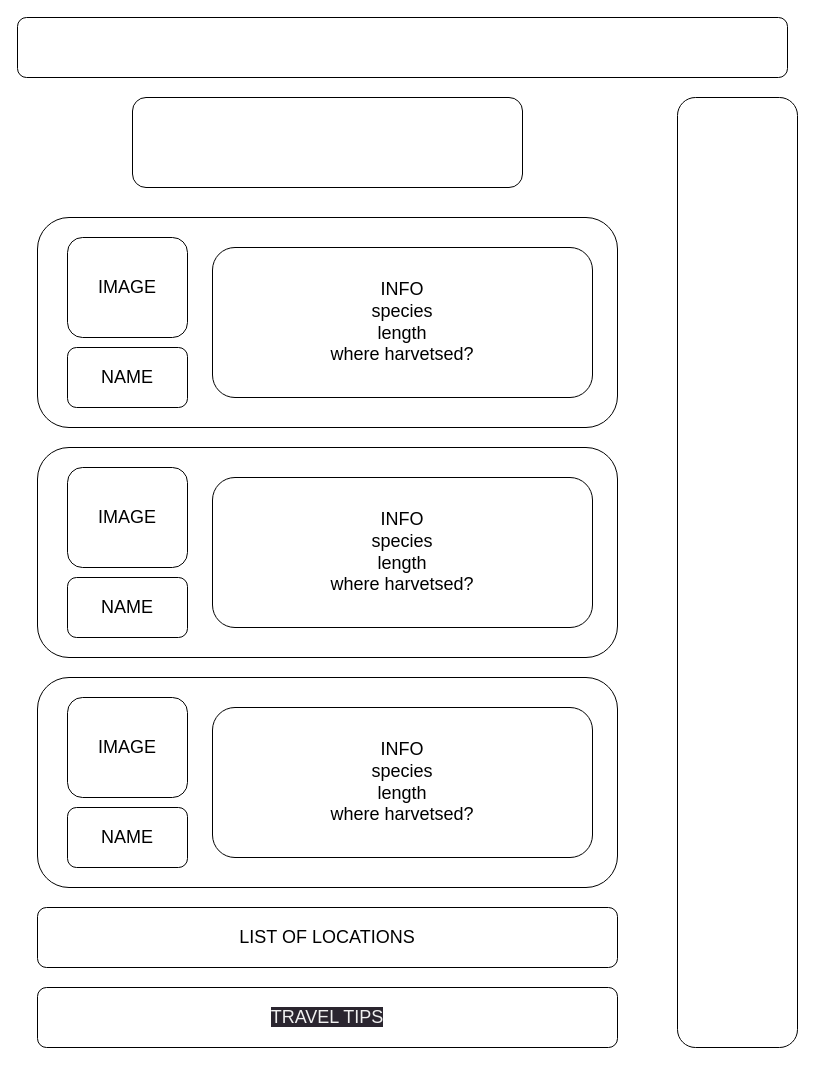
This 815x1065 diagram has some shape labels left out. Each missing label, with the box of its shape:
ASIDE directions to keep tank clean and salinity of water correct: (676, 96, 798, 1048)
HEADING/TITLE: (132, 96, 522, 188)
NAV BAR: (16, 16, 788, 78)
